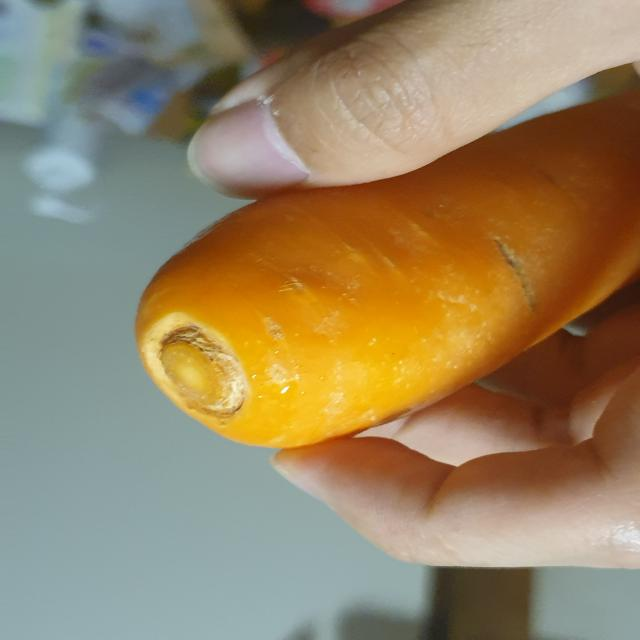carrot: (121, 81, 640, 464)
